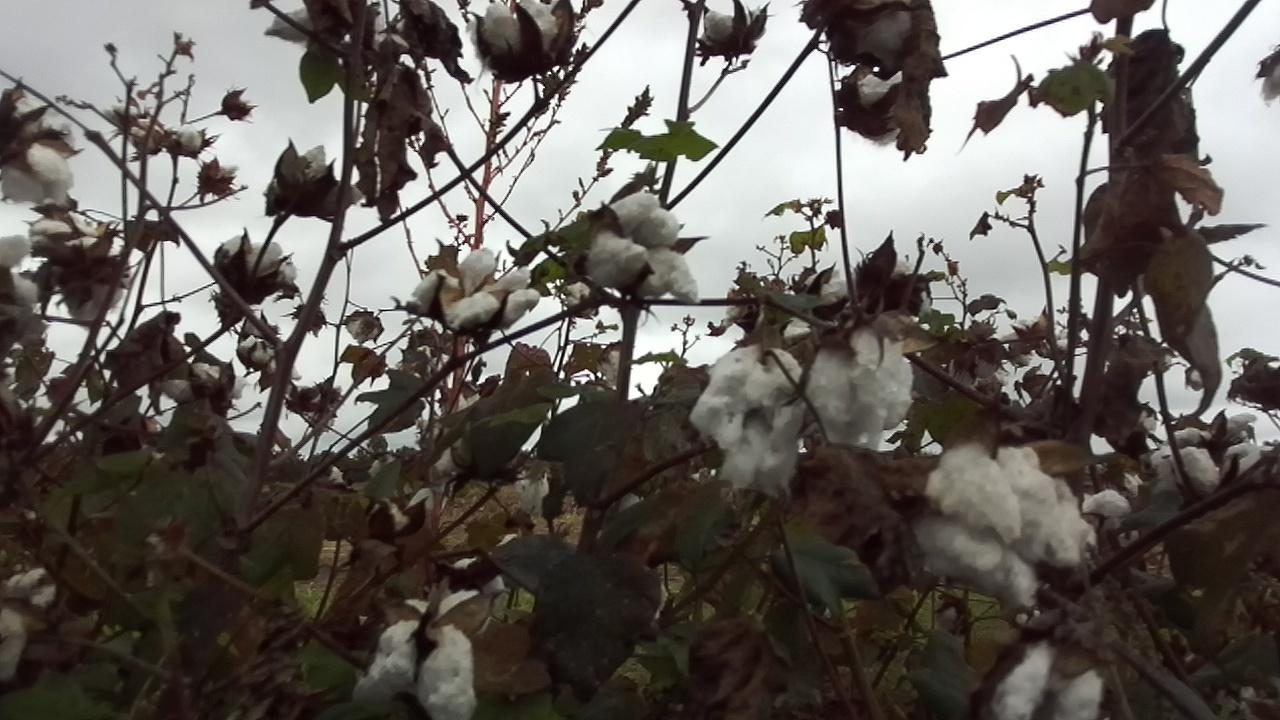cotton_ready: (915, 445, 1093, 611), (694, 344, 806, 487), (804, 322, 915, 450), (584, 190, 701, 301), (354, 617, 479, 720), (409, 247, 540, 330), (992, 640, 1106, 720), (1147, 422, 1261, 497), (0, 93, 72, 205), (464, 0, 561, 81), (0, 564, 62, 684), (0, 230, 45, 350), (847, 71, 912, 146), (218, 233, 298, 293), (26, 212, 112, 260), (699, 2, 769, 52)
